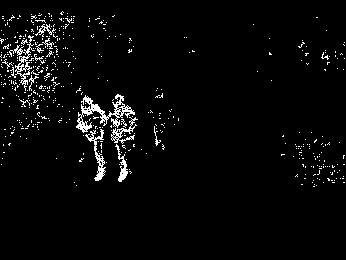person: (75, 93, 108, 193), (111, 90, 140, 189)
